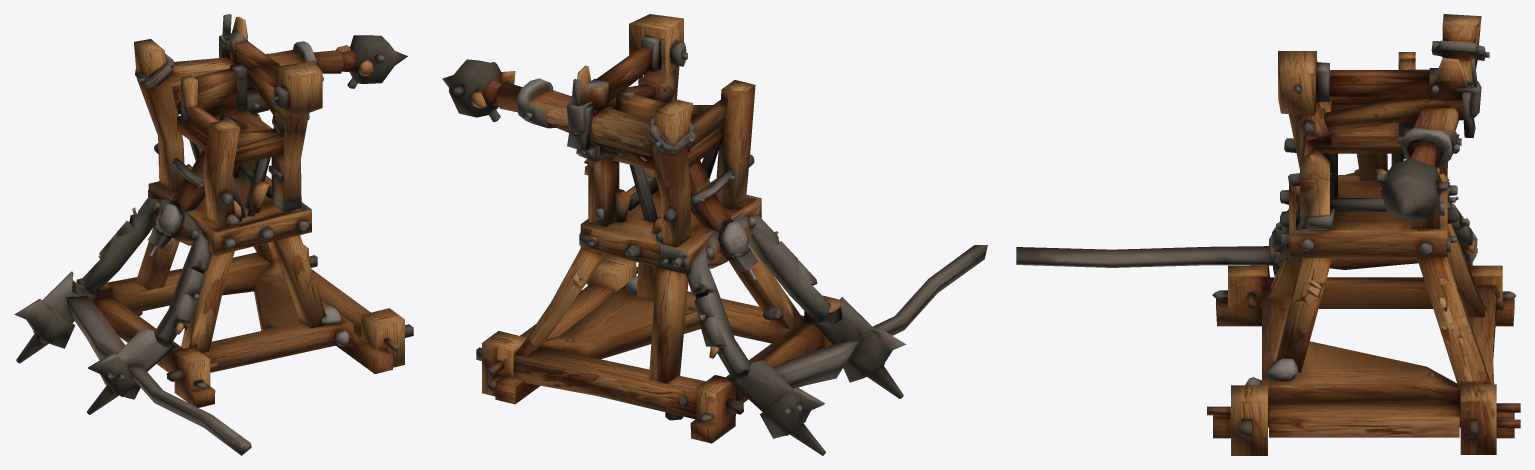
File: lioraen_thornthrower.glb
3 views of the same model, side by side, from view 1: azimuth 30°, elevation 25°; view 2: azimuth 150°, elevation 25°; view 3: azimuth 270°, elevation 25° (orthographic). The views are drawn at different scales.
Bounding box in the file's own units: 0.7802 × 0.6 × 0.771.
1 material, 1 textured.
